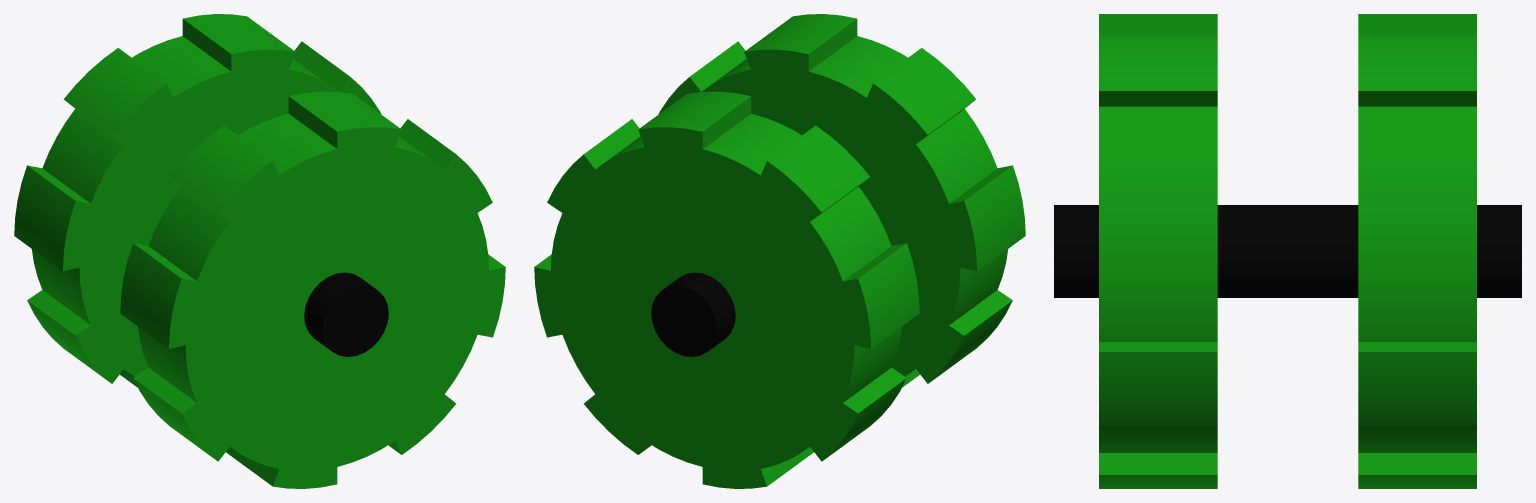
3 views of the same model, side by side, from view 1: azimuth 30°, elevation 25°; view 2: azimuth 150°, elevation 25°; view 3: azimuth 270°, elevation 25° (orthographic). The views are drawn at different scales.
Visible parts, largest first — view 1: Sólido1; view 2: Sólido1; view 3: Sólido1.
Part boxes in pixels (x1=…): Sólido1: x1=14, y1=14, x2=505, y2=488; Sólido1: x1=534, y1=14, x2=1025, y2=488; Sólido1: x1=1054, y1=14, x2=1521, y2=488.
Bounding box in the file's own units: 0.1016 × 0.1016 × 0.1.
